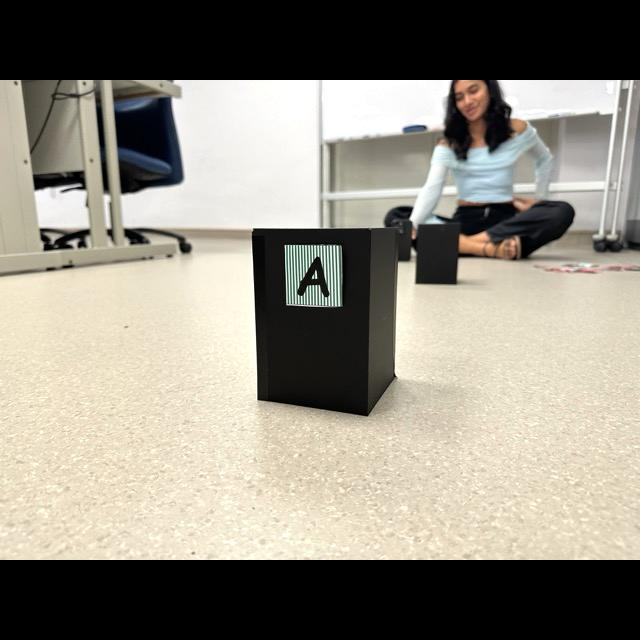A: (299, 256, 328, 296)
